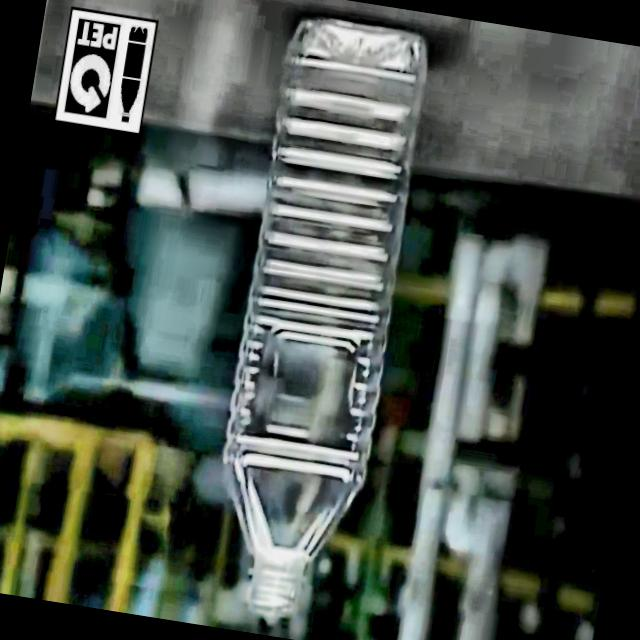plastic bottle: (223, 16, 427, 623)
